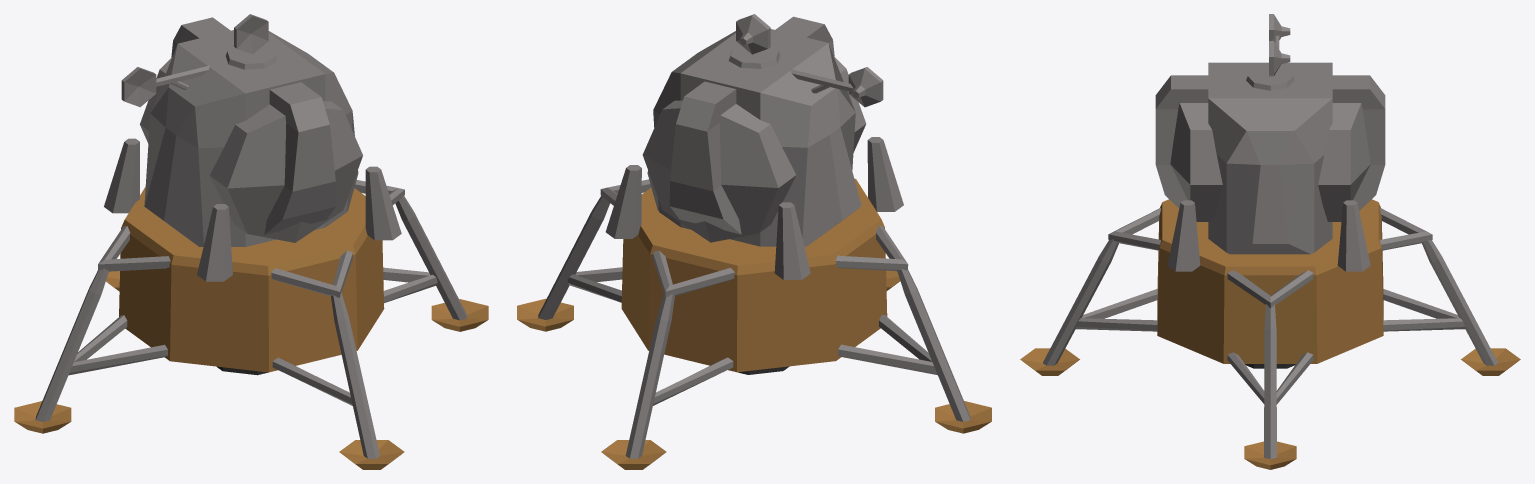
Rendered from rocket-module.glb.
3 views of the same model, side by side, from view 1: azimuth 30°, elevation 25°; view 2: azimuth 150°, elevation 25°; view 3: azimuth 270°, elevation 25° (orthographic). The views are drawn at different scales.
Parts seen in each view (by area): view 1: rocket-module; view 2: rocket-module; view 3: rocket-module.
Boxes of the visible parts, x1=… form: rocket-module: x1=14, y1=14, x2=488, y2=469; rocket-module: x1=517, y1=14, x2=991, y2=469; rocket-module: x1=1020, y1=14, x2=1520, y2=469.
Bounding box in the file's own units: 10.28 × 7.51 × 10.28.
Materials: 1 (1 with a texture image).
